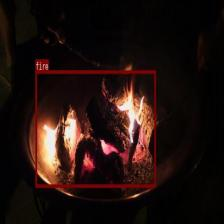fire: (36, 70, 156, 187)
